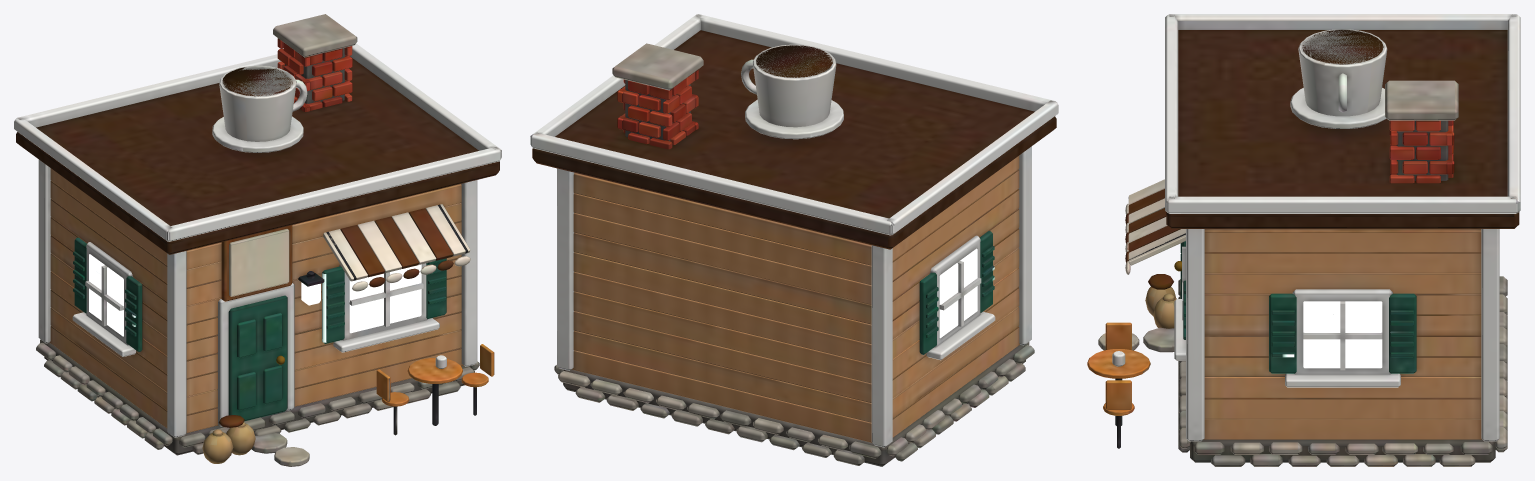
File: coffee_kiosk.glb
The picture shows the model from 3 angles, left to right: view 1: azimuth 30°, elevation 25°; view 2: azimuth 150°, elevation 25°; view 3: azimuth 270°, elevation 25°; orthographic projection. The views are drawn at different scales.
Parts seen in each view (by area): view 1: coffee_kiosk; view 2: coffee_kiosk; view 3: coffee_kiosk.
Part boxes in pixels (left/top/right/bottom): coffee_kiosk: left=14, top=14, right=501, bottom=466; coffee_kiosk: left=530, top=14, right=1058, bottom=466; coffee_kiosk: left=1087, top=14, right=1520, bottom=466.
Size of the model in its own units: 1.69 by 1.43 by 1.65.
1 material, 1 textured.
